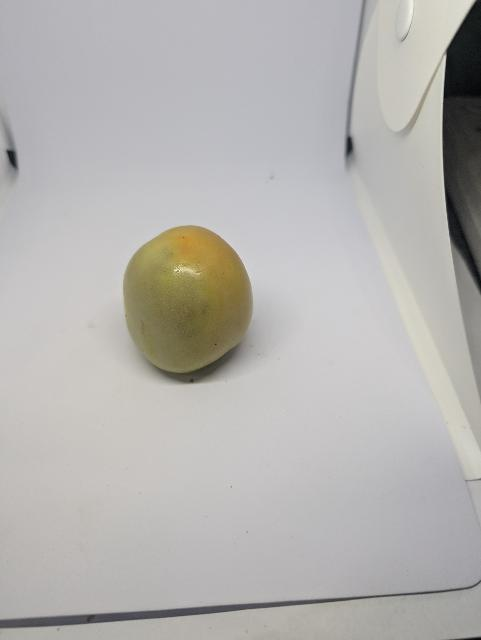breaker: (119, 224, 255, 377)
